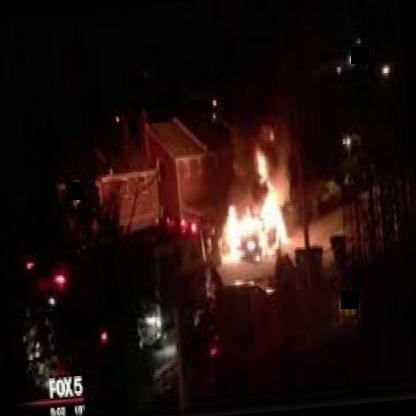fire: (194, 110, 304, 286)
